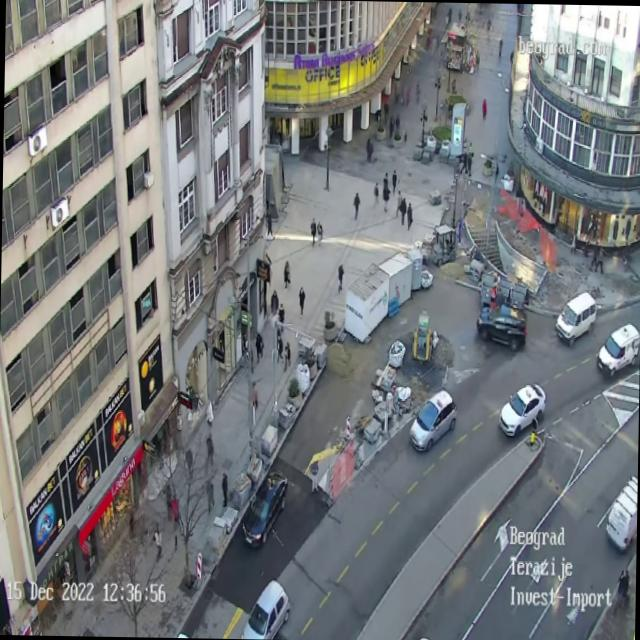car: (241, 468, 287, 548), (408, 388, 458, 453), (240, 578, 290, 638), (498, 382, 546, 438), (604, 474, 636, 553), (596, 321, 640, 376), (554, 290, 596, 346), (476, 304, 524, 350)
